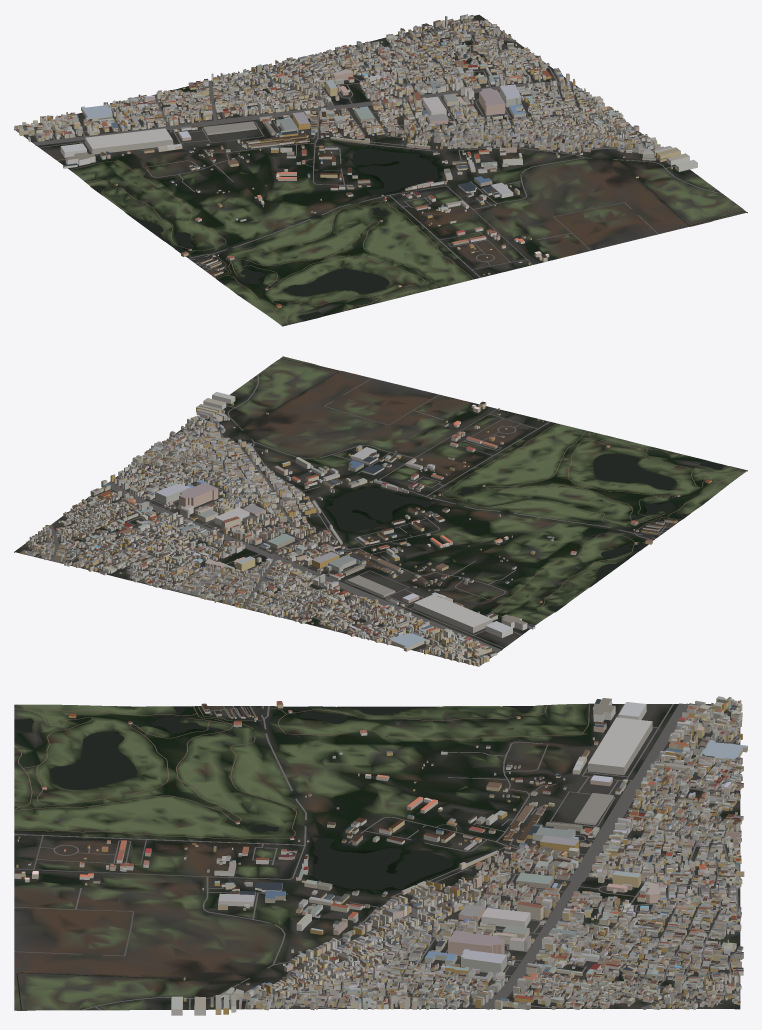
3 views of the same model, one above another, from view 1: azimuth 30°, elevation 25°; view 2: azimuth 150°, elevation 25°; view 3: azimuth 270°, elevation 25° (orthographic). The views are drawn at different scales.
Visible parts, largest first — view 1: ground, buildings, roads, water; view 2: ground, buildings, roads, water; view 3: ground, buildings, roads, water.
Part boxes in pixels (box(x1,y1,x2,y2)): ground: box(14, 14, 747, 326); buildings: box(14, 14, 697, 307); roads: box(15, 20, 722, 325); water: box(91, 148, 744, 320); ground: box(14, 356, 747, 666); buildings: box(20, 392, 711, 666); roads: box(29, 374, 746, 665); water: box(228, 358, 725, 611); ground: box(14, 703, 740, 1010); buildings: box(14, 696, 747, 1015); roads: box(14, 703, 740, 1010); water: box(15, 706, 533, 1010).
Bounding box in the file's own units: 1435 × 41.65 × 1416.
